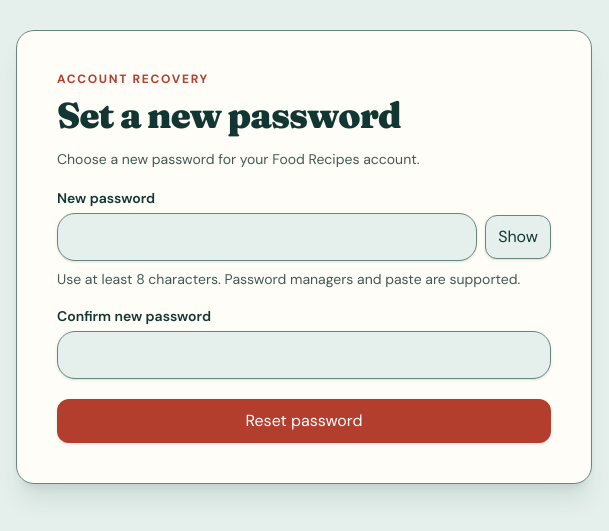
Test case: ResetPassword › validates matching new passwords before submitting
Type "new-password" into the password field labelled "New password" at [267, 237], box x1=57 y1=213 x2=477 y2=261
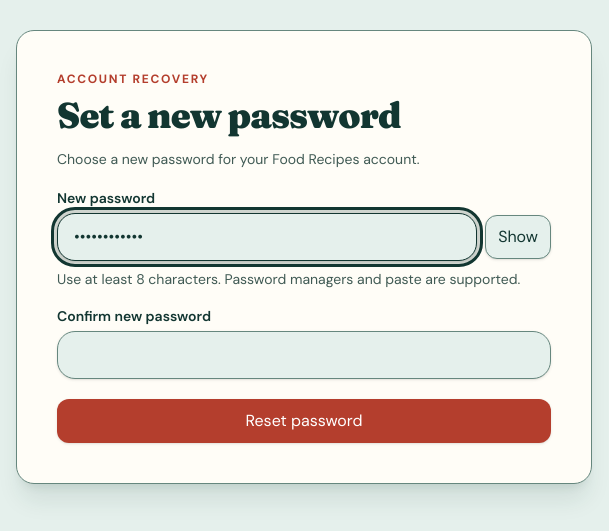
Type "different-password" into the password field labelled "Confirm new password" at [304, 355], box x1=57 y1=331 x2=551 y2=379
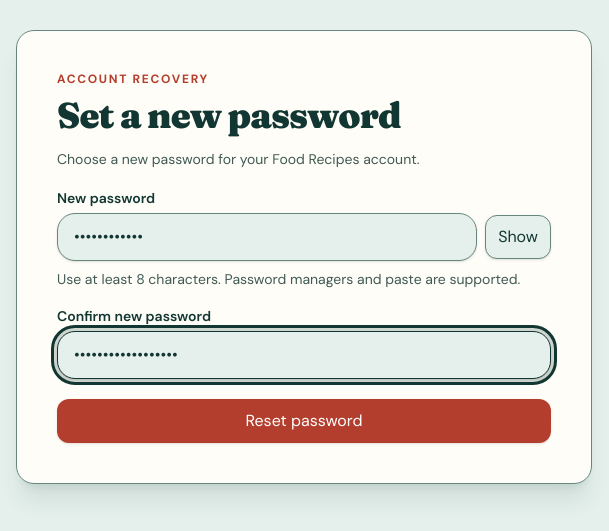
Click the button "Reset password" at [304, 421], box x1=57 y1=399 x2=551 y2=443
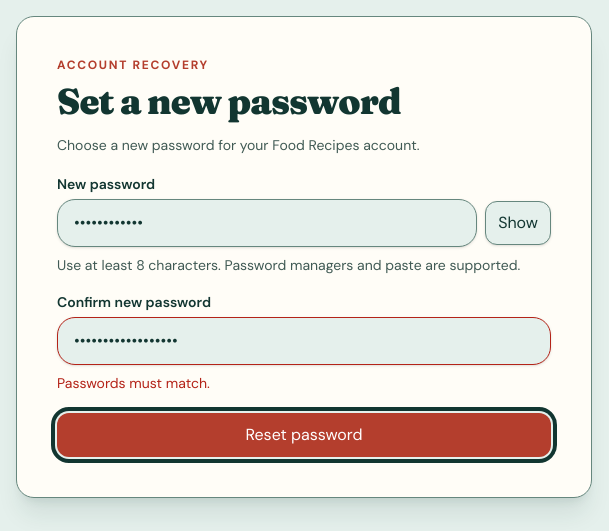
Result: the text "Passwords must match." is shown at x1=57 y1=374 x2=210 y2=392
